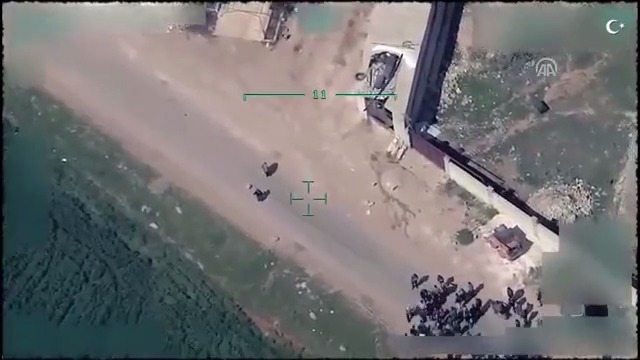insan: (408, 269, 423, 289), (261, 159, 275, 177), (464, 281, 476, 296)
